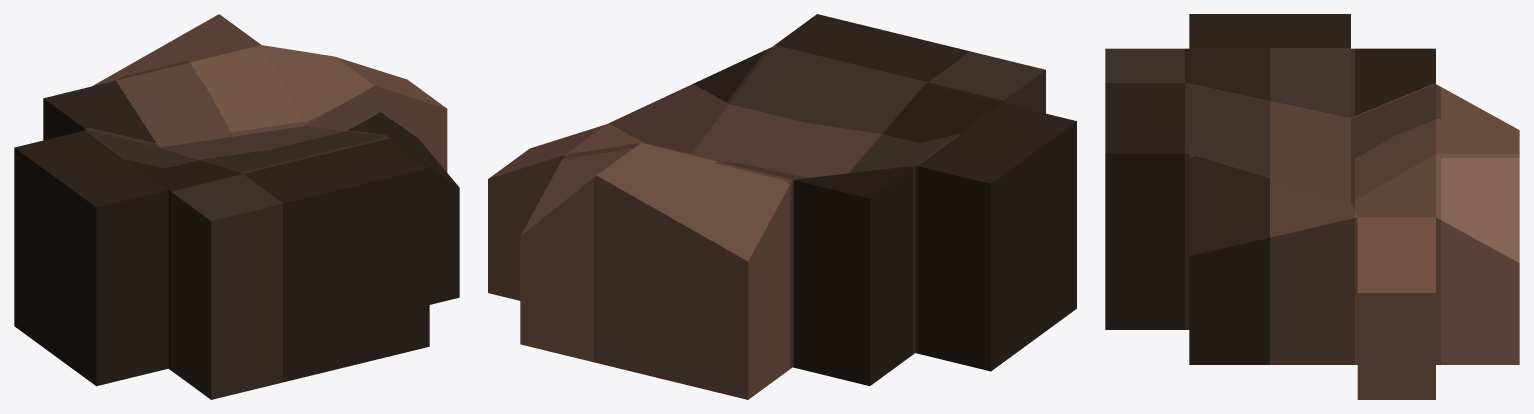
Rendered from garbage_415x24.gltf.
3 views of the same model, side by side, from view 1: azimuth 30°, elevation 25°; view 2: azimuth 150°, elevation 25°; view 3: azimuth 270°, elevation 25° (orthographic). The views are drawn at different scales.
Visible parts, largest first — view 1: garbage_415x24; view 2: garbage_415x24; view 3: garbage_415x24.
Part boxes in pixels (<box>): garbage_415x24: <box>14,14,459,399</box>; garbage_415x24: <box>488,14,1076,399</box>; garbage_415x24: <box>1105,14,1519,399</box>.
Bounding box in the file's own units: 0.3694 × 0.1446 × 0.3085.
Materials: 1 (1 with a texture image).
